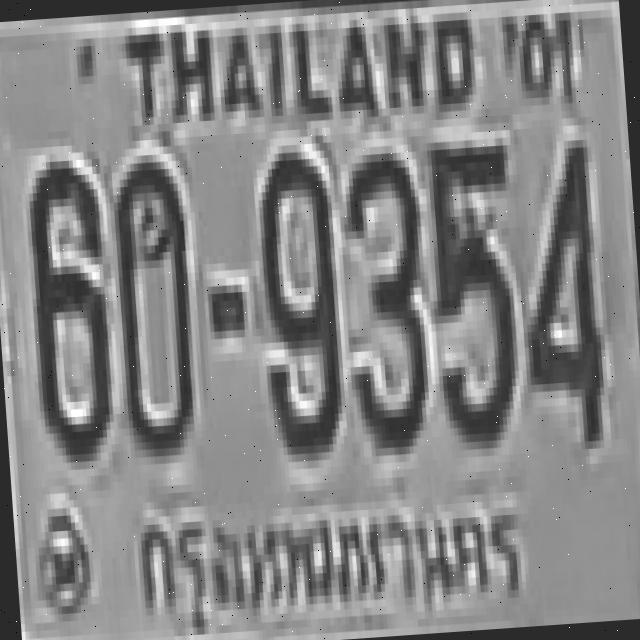0: (106, 152, 200, 450)
3: (335, 143, 432, 450)
4: (512, 136, 605, 441)
5: (422, 130, 523, 444)
6: (20, 151, 113, 456)
9: (247, 142, 344, 456)
Bangkok: (126, 483, 543, 640)
